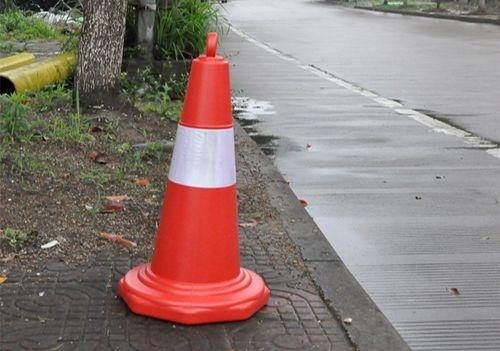cone_barrel: (126, 36, 255, 318)
